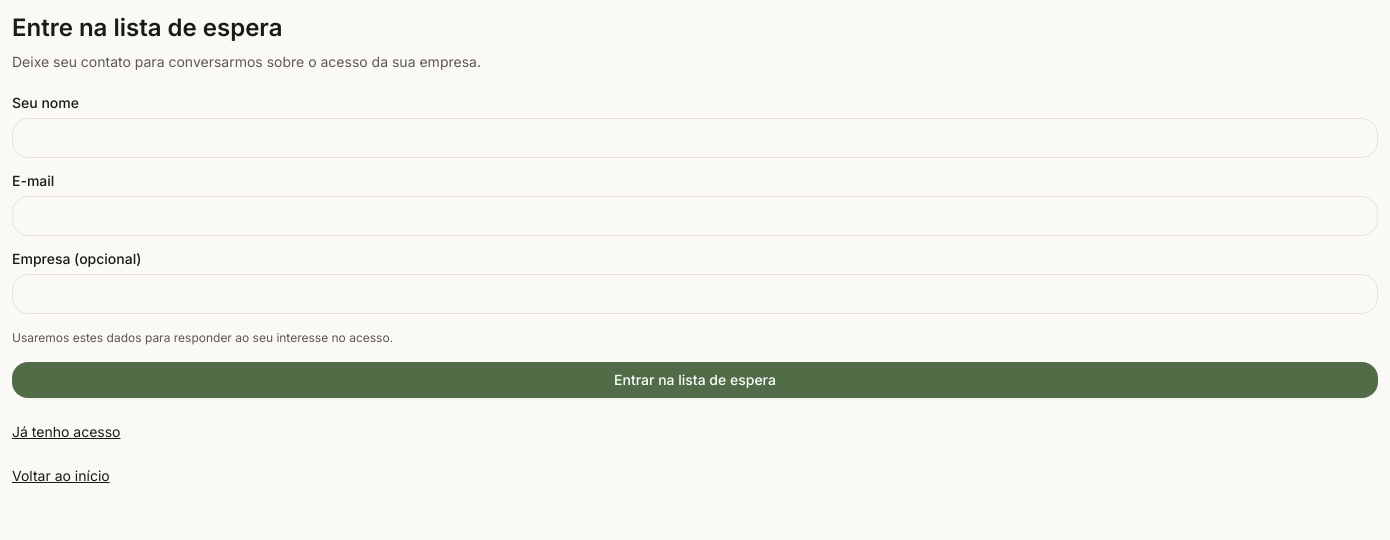
Scenario: falha não parece sucesso e permite repetir com os dados preservados
Type "Maria" into the field labelled "Seu nome". click: (695, 138)
box: [12, 118, 1378, 158]
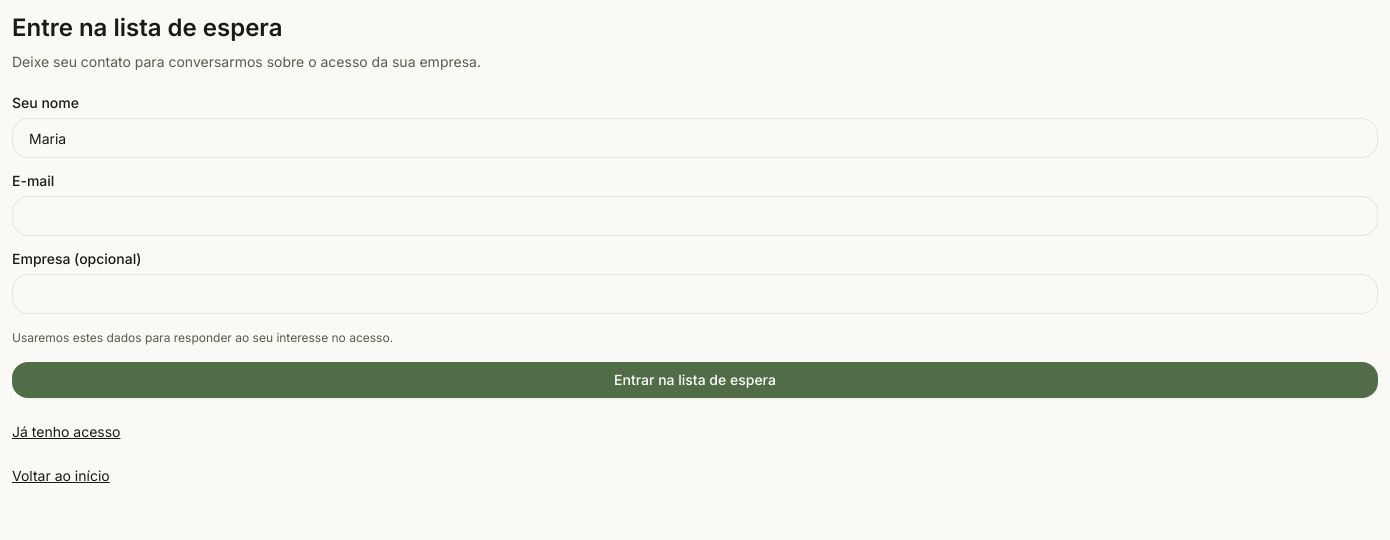
Type "maria@example.com" into the field labelled "E-mail". click: (695, 216)
box: [12, 196, 1378, 236]
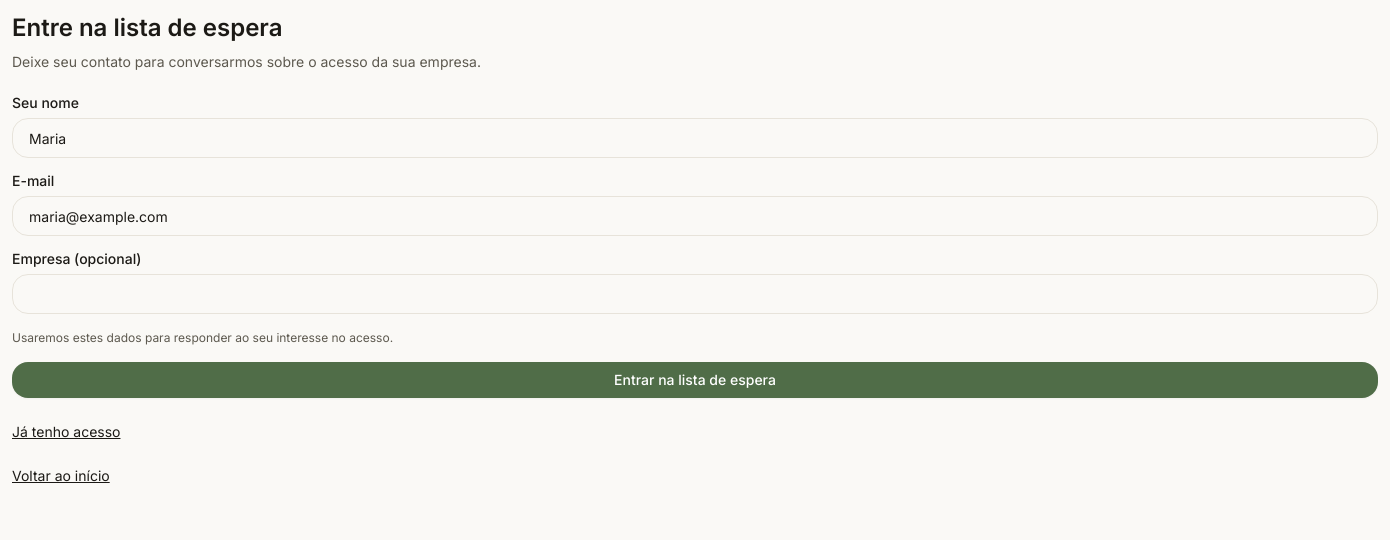
Click the button "Entrar na lista de espera". click: (695, 380)
box: [12, 362, 1378, 398]
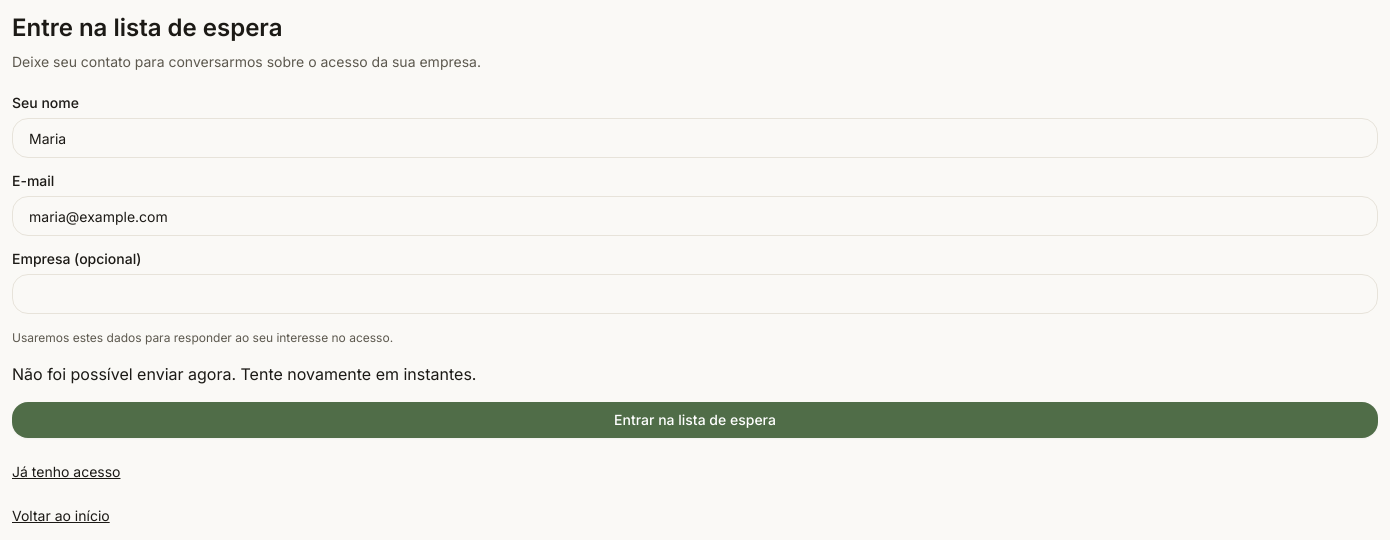
Expected: the button is enabled, [12, 402, 1378, 438]
Result: the message shows "Tente novamente" at [12, 364, 476, 384]
